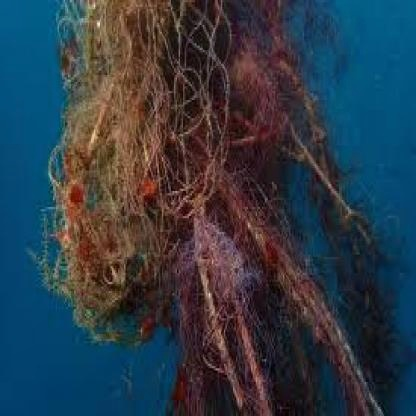net: (49, 2, 388, 416)
